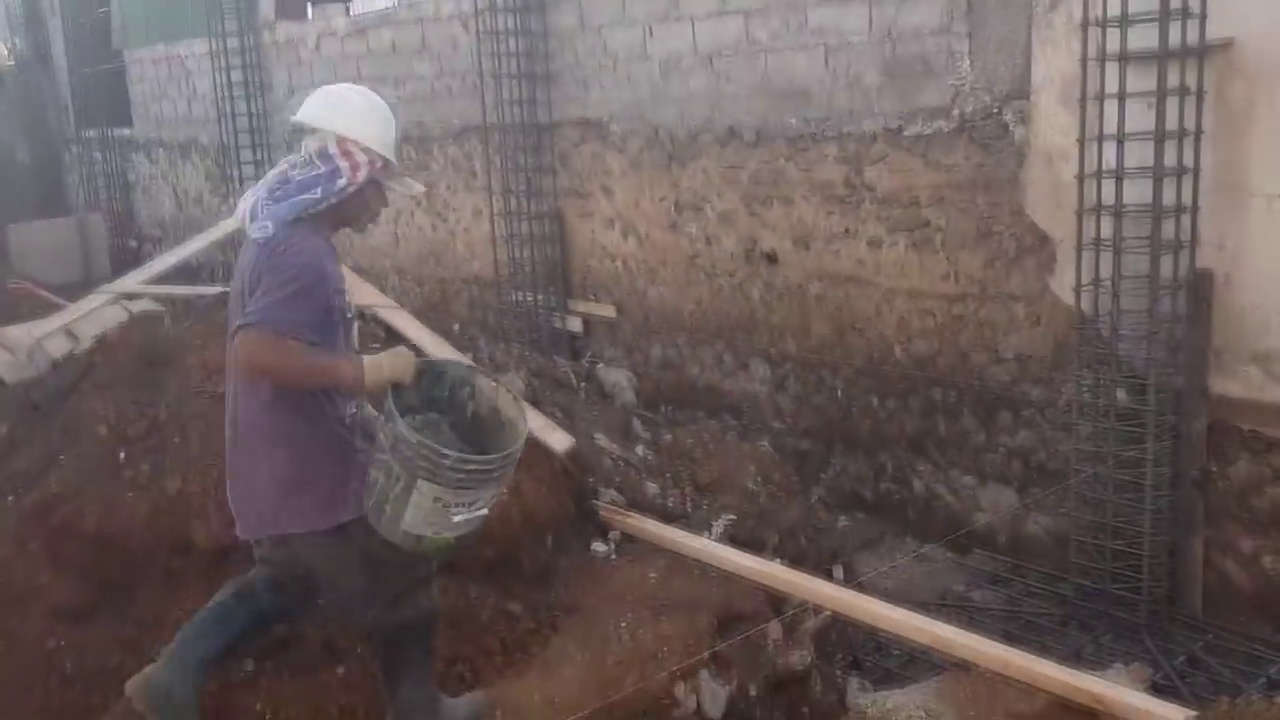helmet: (277, 80, 389, 170)
helmet-on: (268, 78, 408, 250)
person: (113, 71, 416, 719)
